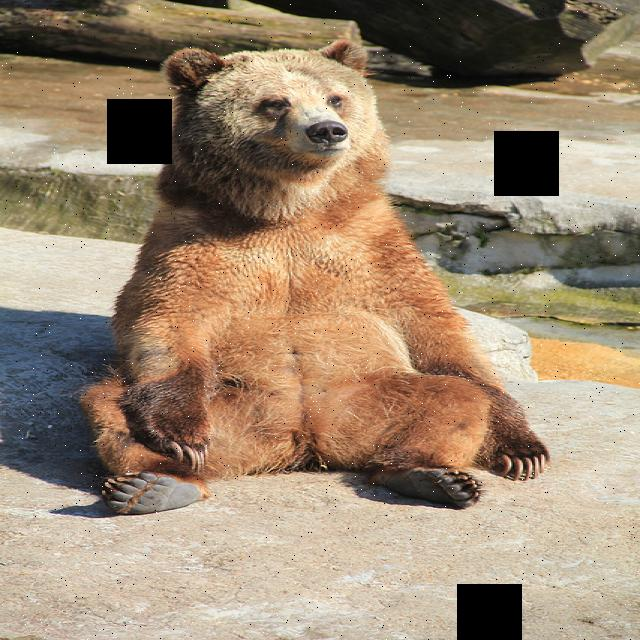Bear: (86, 37, 567, 511)
